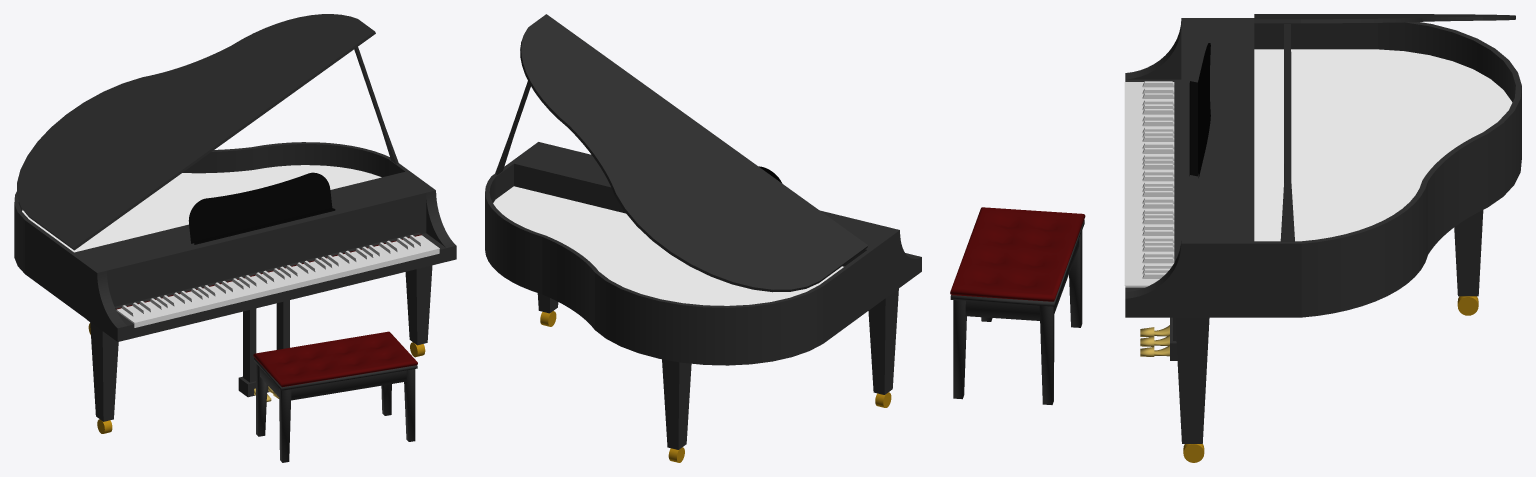
3 renders of one model, left to right at view 1: azimuth 30°, elevation 25°; view 2: azimuth 150°, elevation 25°; view 3: azimuth 270°, elevation 25°, orthographic. The views are drawn at different scales.
Visible parts, largest first — view 1: Baby grand piano_001, Group_096; view 2: Baby grand piano_001; view 3: Baby grand piano_001, Group_096.
Part boxes in pixels (x1=…): Baby grand piano_001: x1=14, y1=14, x2=456, y2=433; Group_096: x1=253, y1=331, x2=417, y2=462; Baby grand piano_001: x1=485, y1=14, x2=921, y2=462; Baby grand piano_001: x1=1125, y1=14, x2=1521, y2=462; Group_096: x1=950, y1=207, x2=1085, y2=404.
Size of the model in its own units: 1466 by 1295 by 1569.
